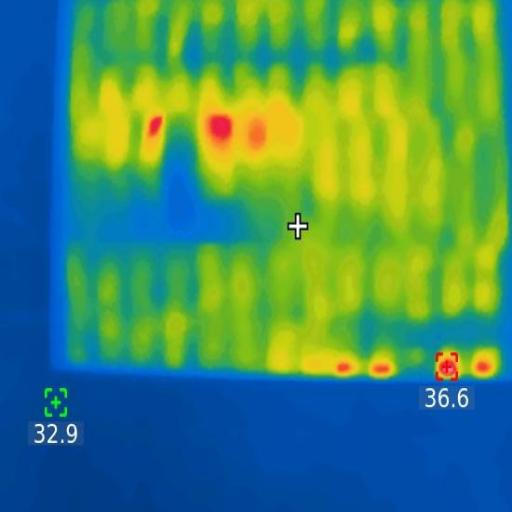hotspot: (206, 110, 236, 148), (143, 107, 166, 143), (433, 355, 462, 382), (473, 356, 498, 376), (372, 356, 391, 380), (336, 356, 357, 374)
